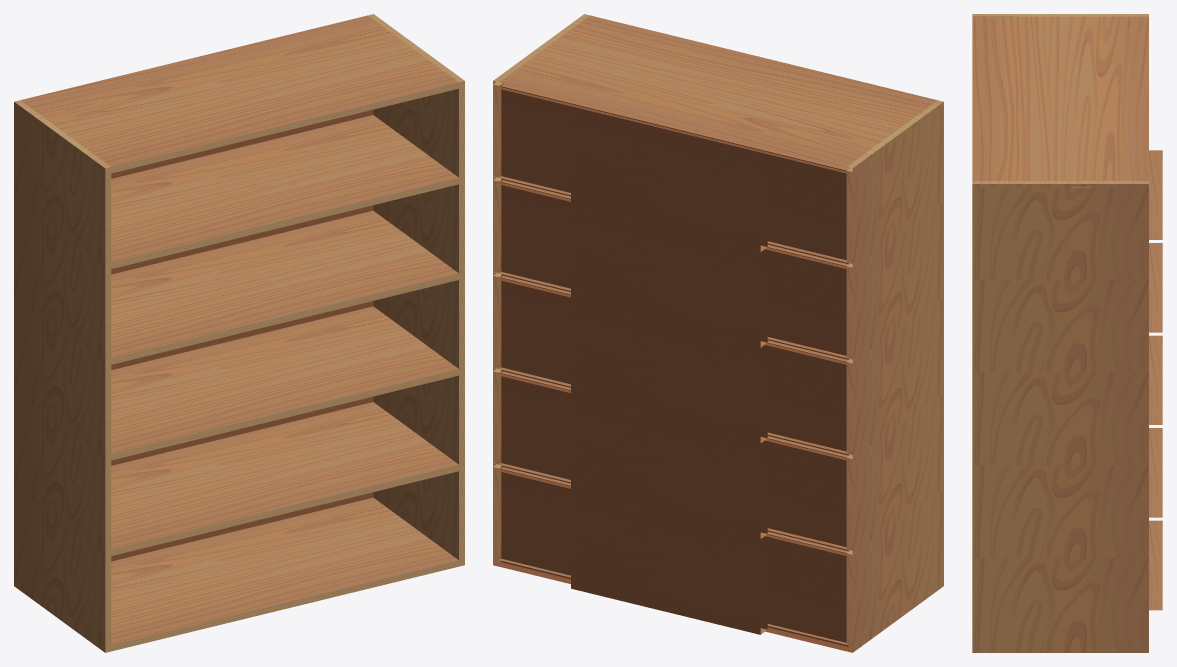
The model's file is layout_wide_5s_open_simple_11w.fbx.
3 renders of one model, left to right at view 1: azimuth 30°, elevation 25°; view 2: azimuth 150°, elevation 25°; view 3: azimuth 270°, elevation 25°, orthographic. The views are drawn at different scales.
Parts seen in each view (by area): view 1: Shelf-TM-00 4, Shelf-BM-00, Shelf-BM-00 1, Shelf-BM-00 2, Shelf-BM-00 4, Shelf-BM-00 3, Shelf-CL-01, Shelf-CL-01 3, Shelf-CL-01 4, Shelf-CL-01 2, Shelf-CL-01 1, Shelf-CR-01 3 (+15 smaller); view 2: Shelf-TM-00 4, Shelf-Back-00 (1) 4, Shelf-Back-00 (1) 2, Shelf-Back-00 (1), Shelf-Back-00 (1) 1, Shelf-Back-00 (1) 3, Shelf-Back-00 4, Shelf-Back-00, Shelf-Back-00 1, Shelf-Back-00 3, Shelf-Back-00 2, Shelf-CL-01 (+16 smaller); view 3: Shelf-TM-00 4, Shelf-CR-01 2, Shelf-CR-01 4, Shelf-CR-01, Shelf-CR-01 1, Shelf-CR-01 3, Shelf-Back-00 (1), Shelf-Back-00 (1) 1, Shelf-Back-00 (1) 2, Shelf-Back-00 (1) 3, Shelf-Back-00 (1) 4, Shelf-CR-00 (+9 smaller).
Boxes of the visible parts, x1=… form: Shelf-TM-00 4: x1=20, y1=15, x2=458, y2=173; Shelf-BM-00: x1=111, y1=497, x2=458, y2=651; Shelf-BM-00 1: x1=111, y1=402, x2=458, y2=555; Shelf-BM-00 2: x1=111, y1=306, x2=458, y2=458; Shelf-BM-00 4: x1=111, y1=115, x2=458, y2=267; Shelf-BM-00 3: x1=111, y1=210, x2=458, y2=359; Shelf-CL-01: x1=14, y1=488, x2=111, y2=646; Shelf-CL-01 3: x1=14, y1=201, x2=111, y2=359; Shelf-CL-01 4: x1=14, y1=105, x2=111, y2=263; Shelf-CL-01 2: x1=14, y1=297, x2=111, y2=454; Shelf-CL-01 1: x1=14, y1=392, x2=111, y2=550; Shelf-CR-01 3: x1=373, y1=180, x2=464, y2=273; Shelf-TM-00 4: x1=499, y1=15, x2=937, y2=173; Shelf-Back-00 (1) 4: x1=571, y1=112, x2=767, y2=252; Shelf-Back-00 (1) 2: x1=571, y1=303, x2=767, y2=443; Shelf-Back-00 (1): x1=571, y1=495, x2=767, y2=634; Shelf-Back-00 (1) 1: x1=571, y1=399, x2=767, y2=539; Shelf-Back-00 (1) 3: x1=571, y1=208, x2=767, y2=347; Shelf-Back-00 4: x1=501, y1=84, x2=849, y2=264; Shelf-Back-00: x1=501, y1=467, x2=849, y2=646; Shelf-Back-00 1: x1=501, y1=371, x2=849, y2=551; Shelf-Back-00 3: x1=501, y1=180, x2=849, y2=359; Shelf-Back-00 2: x1=501, y1=276, x2=849, y2=455; Shelf-CL-01: x1=846, y1=488, x2=943, y2=646; Shelf-TM-00 4: x1=972, y1=16, x2=1148, y2=180; Shelf-CR-01 2: x1=972, y1=372, x2=1148, y2=461; Shelf-CR-01 4: x1=972, y1=187, x2=1148, y2=276; Shelf-CR-01: x1=972, y1=558, x2=1148, y2=646; Shelf-CR-01 1: x1=972, y1=465, x2=1148, y2=553; Shelf-CR-01 3: x1=972, y1=280, x2=1148, y2=368; Shelf-Back-00 (1): x1=1149, y1=520, x2=1162, y2=610; Shelf-Back-00 (1) 1: x1=1149, y1=428, x2=1162, y2=517; Shelf-Back-00 (1) 2: x1=1149, y1=335, x2=1162, y2=424; Shelf-Back-00 (1) 3: x1=1149, y1=243, x2=1162, y2=332; Shelf-Back-00 (1) 4: x1=1149, y1=150, x2=1162, y2=239; Shelf-CR-00: x1=972, y1=646, x2=1148, y2=652.
Size of the model in its own units: 182 by 234 by 86.3.
